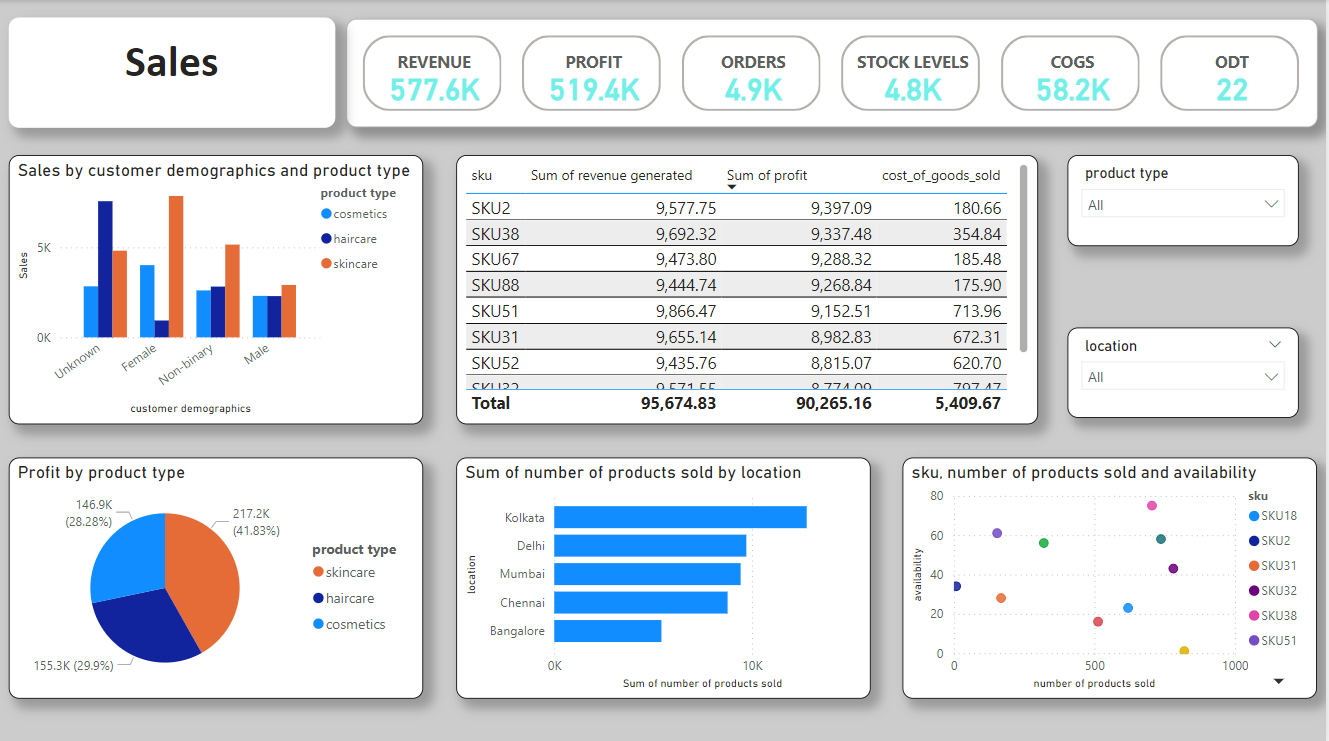

What the dashboard file says about the page in this screenshot:
{"tool":"powerbi","page":{"name":"Sales & Revenue","canvas":[1280,720],"ordinal":0},"visuals":[{"type":"cardVisual","fields":{"Data":["Sum(supply_chain_data.revenue generated)","Sum(supply_chain_data.profit)","Sum(supply_chain_data.order quantities)","Sum(supply_chain_data.stock levels)","key_measures (3).cost_of_goods_sold","key_measures (3).order_cycle_time"]},"box":[334,17.5,937.5,105],"z":0},{"type":"slicer","fields":{"Values":["supply_chain_data.location"]},"box":[1030.3,316.1,223.2,86.9],"z":1000},{"type":"slicer","fields":{"Values":["supply_chain_data.product type"]},"box":[1030.3,149.6,223.2,88.1],"z":2000},{"type":"clusteredColumnChart","fields":{"Category":["supply_chain_data.customer demographics"],"Y":["Sum(supply_chain_data.number of products sold)"],"Series":["supply_chain_data.product type"]},"box":[8.6,150,400,260],"z":3000},{"type":"barChart","fields":{"Y":["Sum(supply_chain_data.number of products sold)"],"Category":["supply_chain_data.location"]},"box":[440,441.4,400,232.9],"z":4000},{"type":"tableEx","fields":{"Values":["supply_chain_data.sku","Sum(supply_chain_data.revenue generated)","Sum(supply_chain_data.profit)","key_measures (3).cost_of_goods_sold"]},"box":[440,150,561.4,260],"z":5000},{"type":"pieChart","fields":{"Category":["supply_chain_data.product type"],"Y":["Sum(supply_chain_data.profit)"]},"box":[8.9,442,400,233],"z":6000},{"type":"textbox","box":[8.4,16.9,314.9,106.2],"z":7000},{"type":"scatterChart","fields":{"X":["supply_chain_data.number of products sold"],"Y":["supply_chain_data.availability"],"Series":["supply_chain_data.sku"]},"box":[871.4,441.4,400,232.9],"z":8000}]}

Visuals, with their boxes in screenshot pixels (x1, y1, x2, y2), scaled from the page's 1280x720 canvas onto the 1329x741 screenshot:
cardVisual - Sum(supply_chain_data.revenue generated) x Sum(supply_chain_data.profit): locate(347, 18, 1320, 126)
slicer - supply_chain_data.location: locate(1070, 325, 1301, 415)
slicer - supply_chain_data.product type: locate(1070, 154, 1301, 245)
clusteredColumnChart - supply_chain_data.customer demographics x Sum(supply_chain_data.number of products sold): locate(9, 154, 424, 422)
barChart - Sum(supply_chain_data.number of products sold) x supply_chain_data.location: locate(457, 454, 872, 694)
tableEx - supply_chain_data.sku x Sum(supply_chain_data.revenue generated): locate(457, 154, 1040, 422)
pieChart - supply_chain_data.product type x Sum(supply_chain_data.profit): locate(9, 455, 425, 695)
textbox: locate(9, 17, 336, 127)
scatterChart - supply_chain_data.number of products sold x supply_chain_data.availability: locate(905, 454, 1320, 694)
